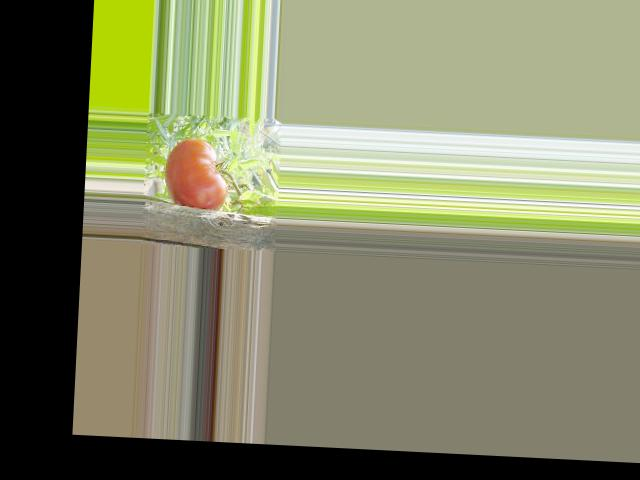tomato: (163, 136, 230, 211)
